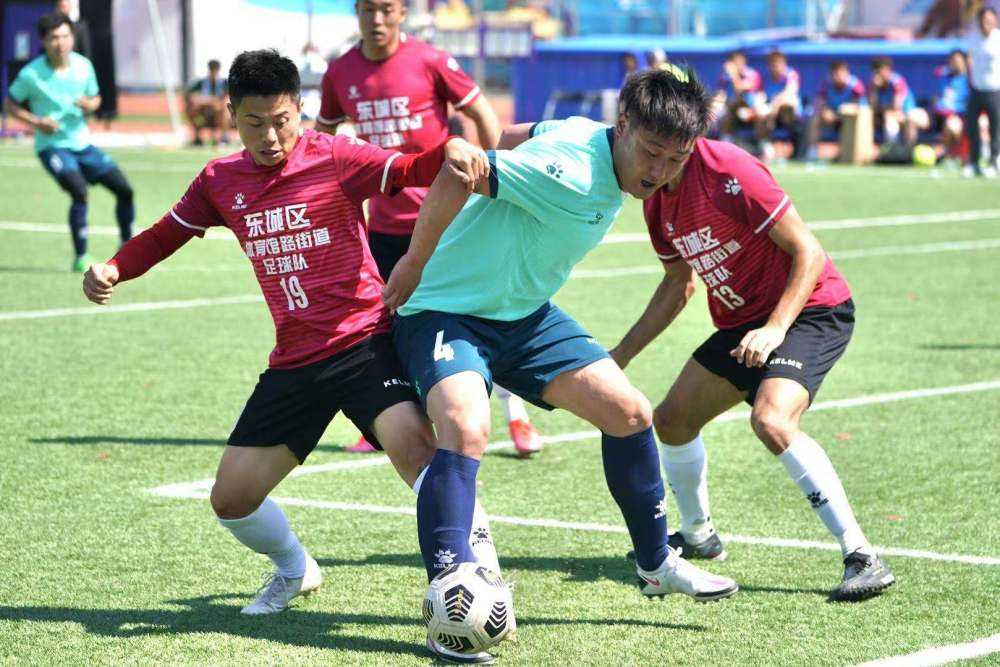football: (423, 563, 514, 653)
